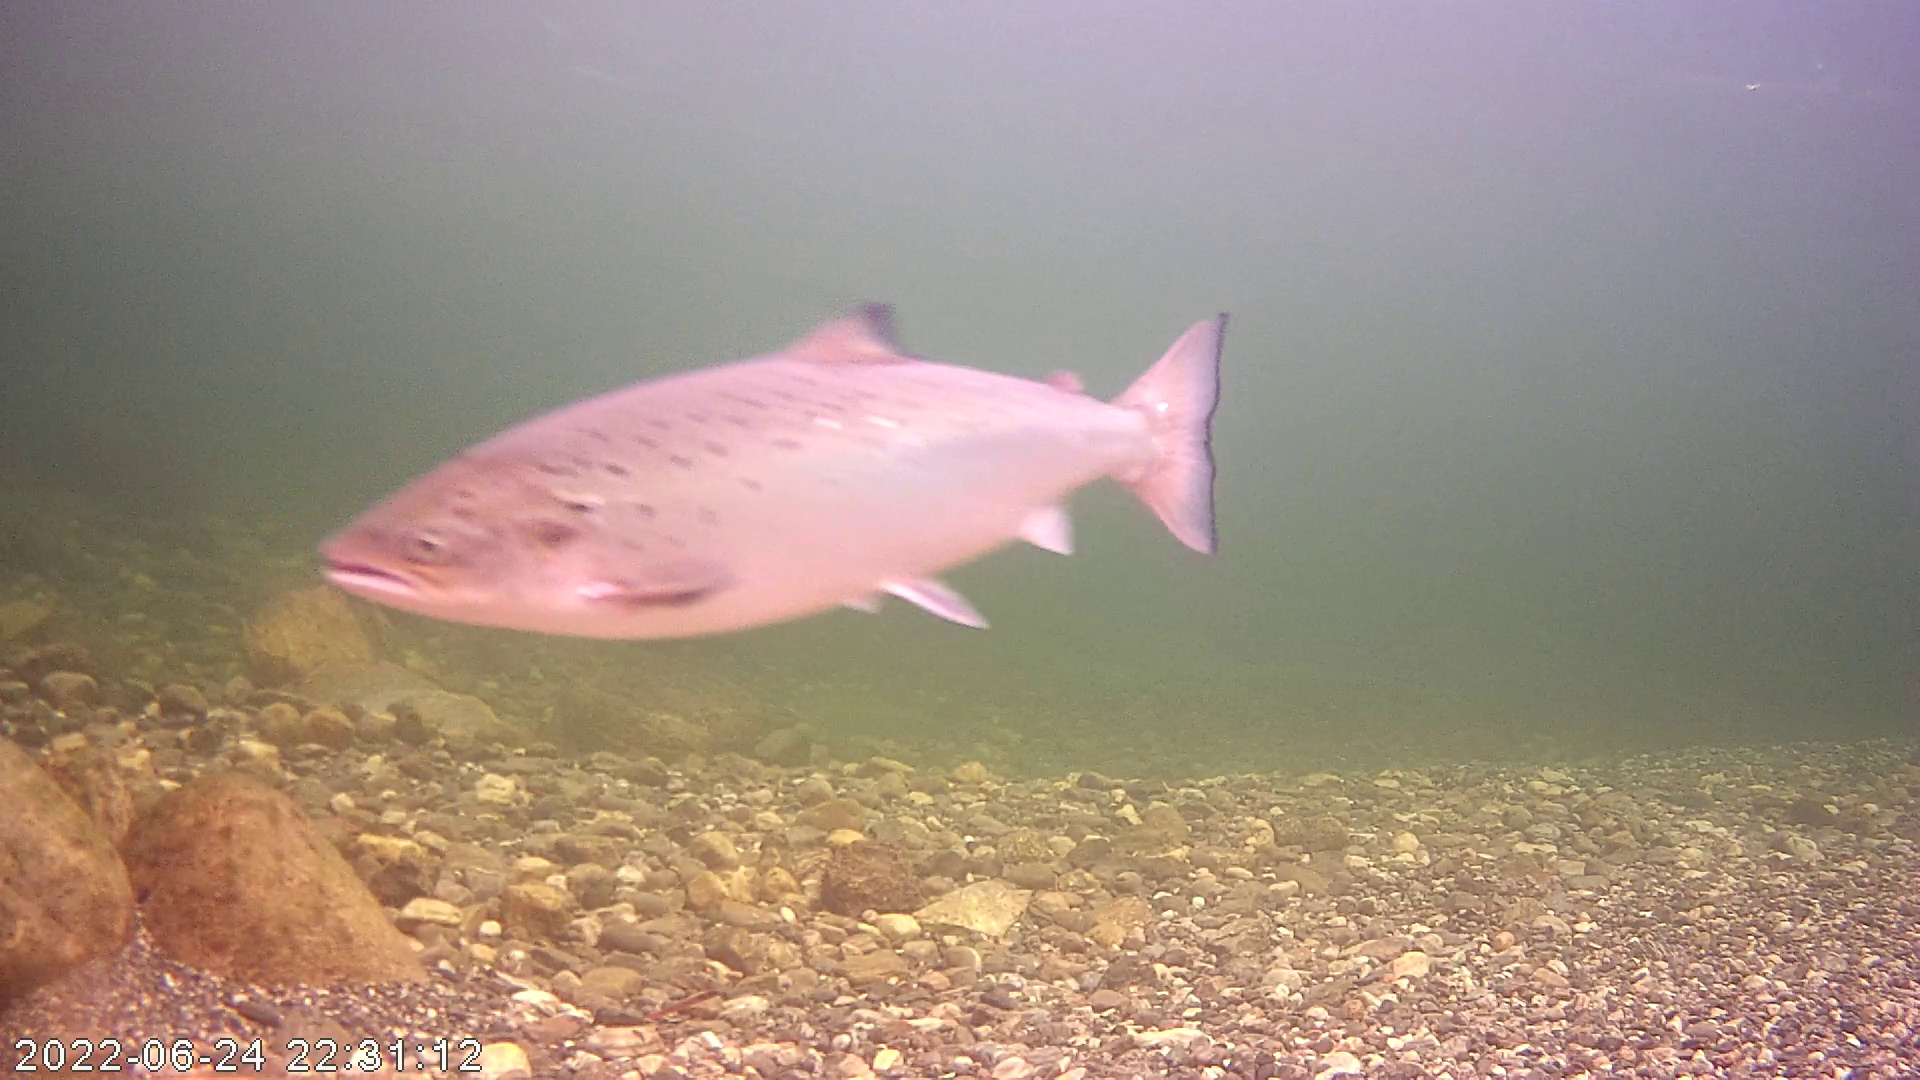salmon: (313, 301, 1236, 645)
